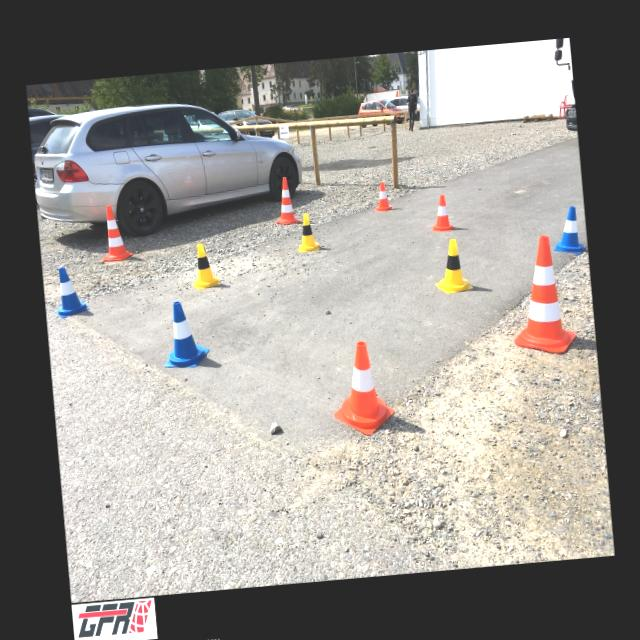blue_cone: (158, 299, 210, 369), (51, 265, 89, 318), (550, 205, 586, 256)
large_orange_cone: (506, 234, 578, 356), (98, 204, 132, 262), (272, 176, 300, 225)
orange_cone: (328, 338, 396, 438), (428, 194, 454, 232), (372, 182, 391, 212)
yellow_cone: (432, 238, 474, 294), (189, 242, 221, 290), (296, 213, 320, 252)
